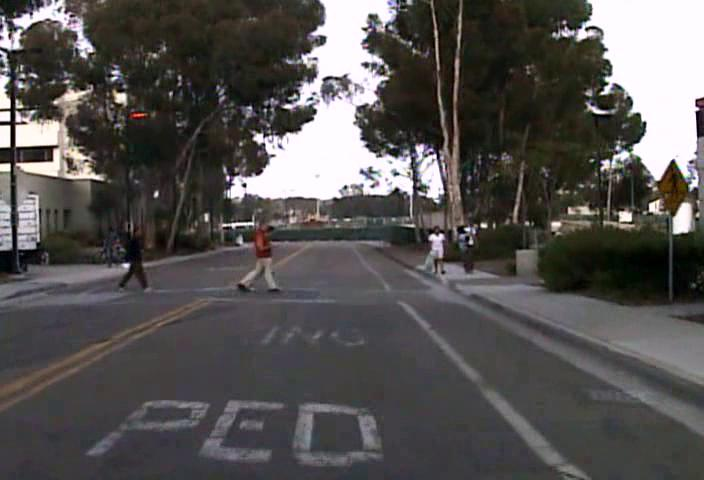pedestrianCrossing: (655, 158, 690, 216)
